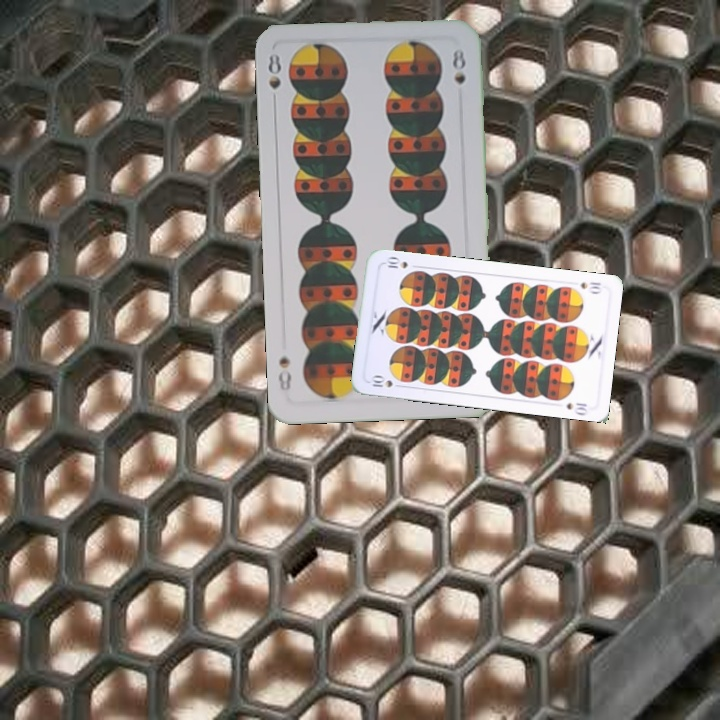S10: (367, 372, 406, 390), (575, 278, 604, 296)
S8: (263, 50, 284, 108)
